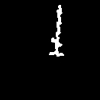double_crochet: (49, 5, 63, 55)
